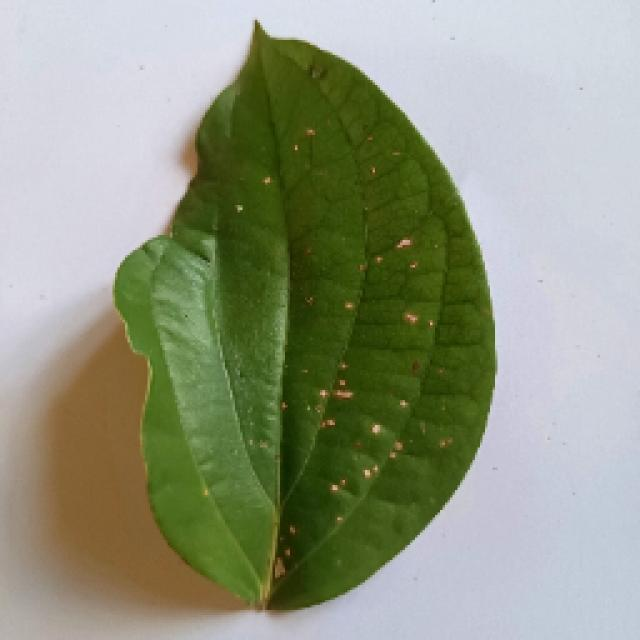pollu-disease: (110, 18, 490, 608)
